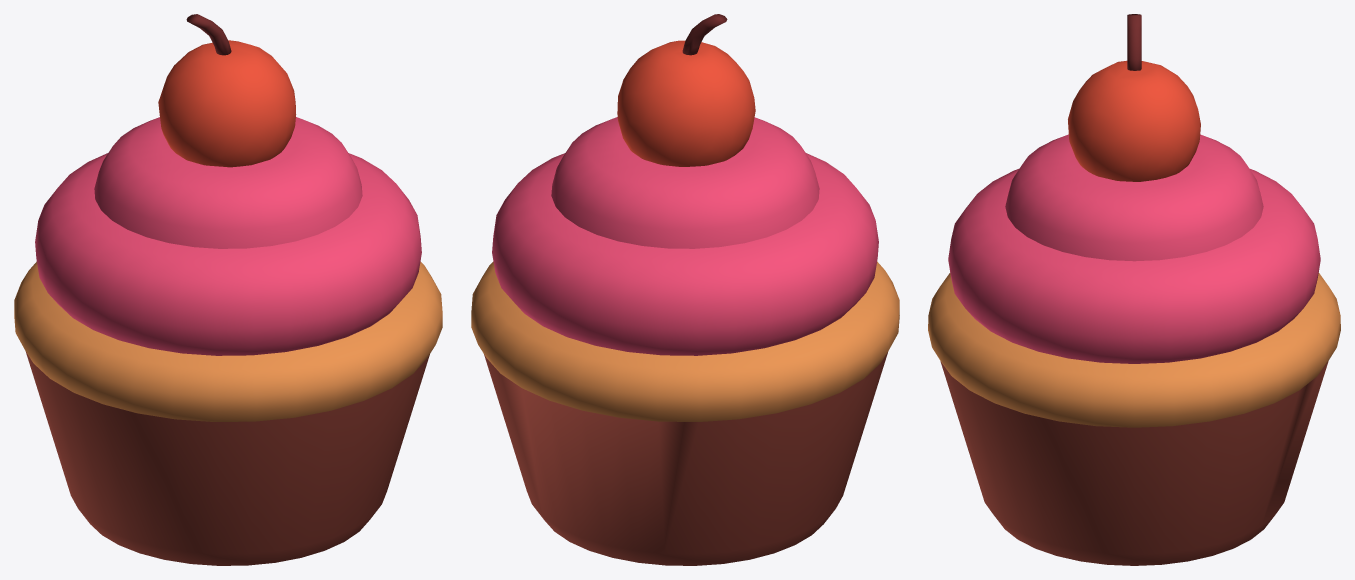
Rendered from babeczka.gltf.
3 renders of one model, left to right at view 1: azimuth 30°, elevation 25°; view 2: azimuth 150°, elevation 25°; view 3: azimuth 270°, elevation 25°, orthographic. The views are drawn at different scales.
Parts seen in each view (by area): view 1: Plane, Sphere, Cylinder; view 2: Plane, Sphere, Cylinder; view 3: Plane, Sphere, Cylinder.
Boxes of the visible parts, x1,y1,x2,y2 form: Plane: (14, 117, 442, 565); Sphere: (158, 40, 296, 167); Cylinder: (186, 14, 231, 55); Plane: (471, 117, 899, 565); Sphere: (617, 40, 755, 166); Cylinder: (682, 14, 727, 55); Plane: (928, 134, 1340, 565); Sphere: (1068, 60, 1200, 181); Cylinder: (1127, 14, 1141, 70).
Bounding box in the file's own units: 0.1638 × 0.2098 × 0.1638.
1 material, 1 textured.
